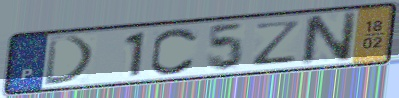1: (122, 29, 151, 78)
5: (202, 20, 247, 73)
C: (148, 26, 201, 77)
D: (42, 34, 98, 88)
N: (299, 9, 360, 68)
Z: (253, 18, 305, 67)
